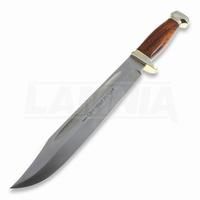knife: (8, 12, 182, 193)
